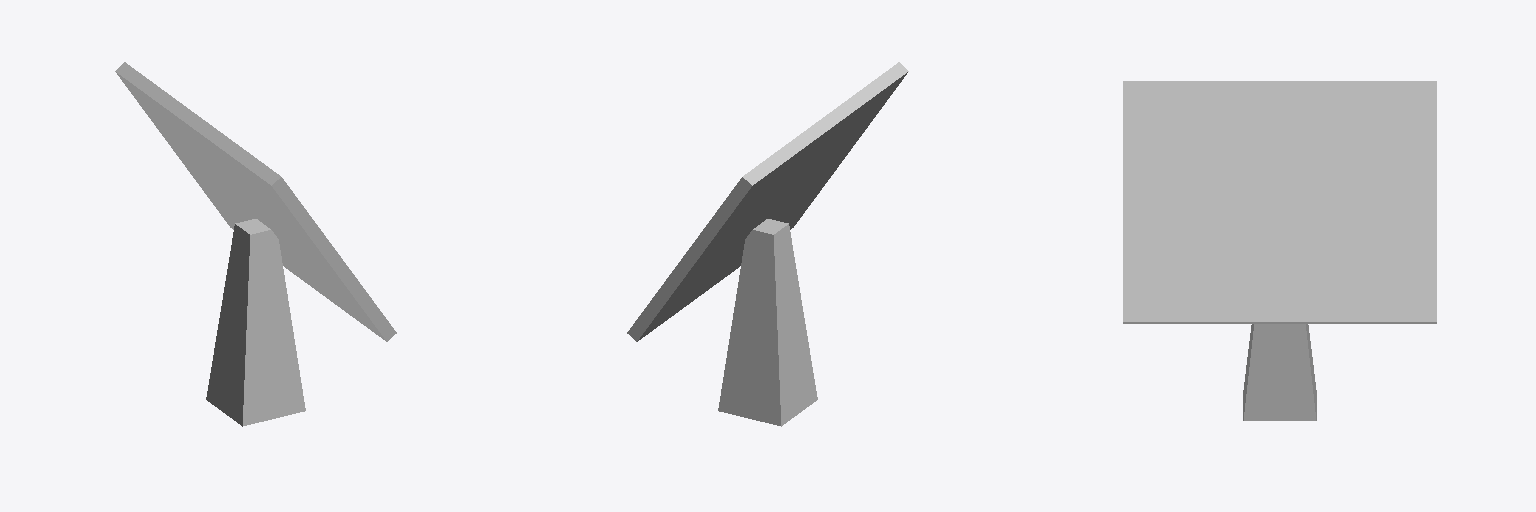
The model's file is solar.obj.
The picture shows the model from 3 angles: view 1: azimuth 30°, elevation 25°; view 2: azimuth 150°, elevation 25°; view 3: azimuth 270°, elevation 25°; orthographic projection.
Parts seen in each view (by area): view 1: Cube.008; view 2: Cube.008; view 3: Cube.008.
Boxes of the visible parts, x1,y1,x2,y2 form: Cube.008: [115, 62, 396, 426]; Cube.008: [627, 62, 908, 426]; Cube.008: [1123, 81, 1436, 420].
Bounding box in the file's own units: 1.19 × 2.71 × 2.57.